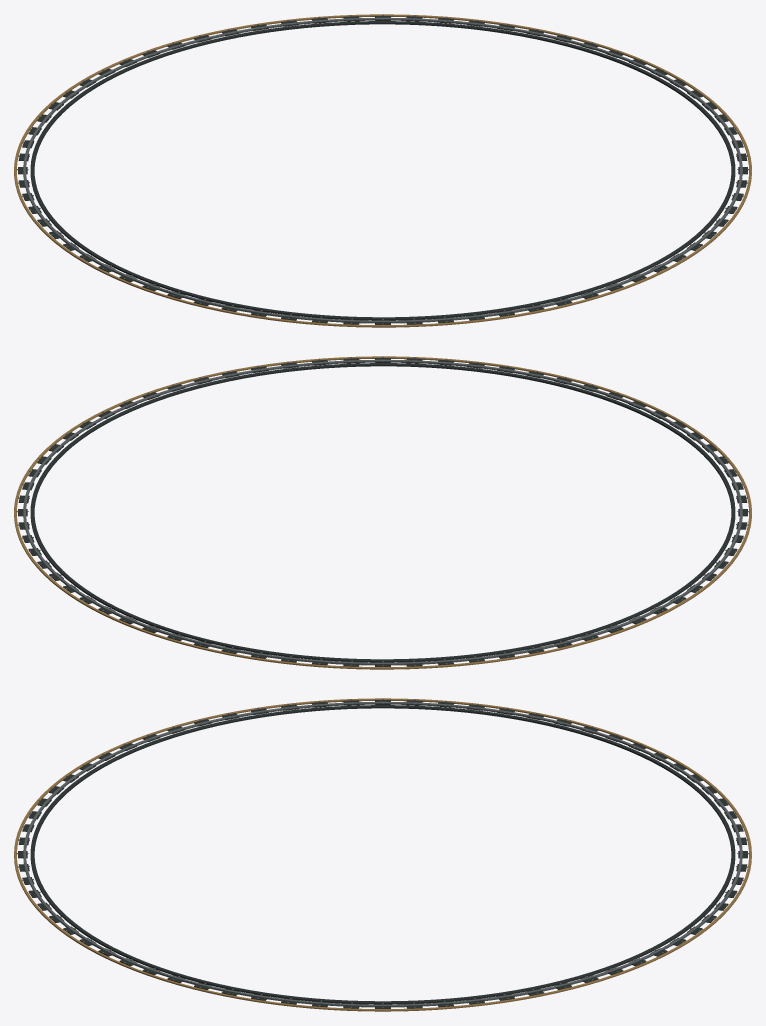
The model's file is SM_CP_TrackAndHardware.fbx.
The picture shows the model from 3 angles, top to bottom: view 1: azimuth 30°, elevation 25°; view 2: azimuth 150°, elevation 25°; view 3: azimuth 270°, elevation 25°; orthographic projection.
Visible parts, largest first — view 1: SM_CP_TrackAndHardware; view 2: SM_CP_TrackAndHardware; view 3: SM_CP_TrackAndHardware.
Part boxes in pixels (<box>): SM_CP_TrackAndHardware: <box>14,14,751,327</box>; SM_CP_TrackAndHardware: <box>14,356,751,669</box>; SM_CP_TrackAndHardware: <box>14,698,751,1011</box>.
Bounding box in the file's own units: 1830 × 1830 × 7.
